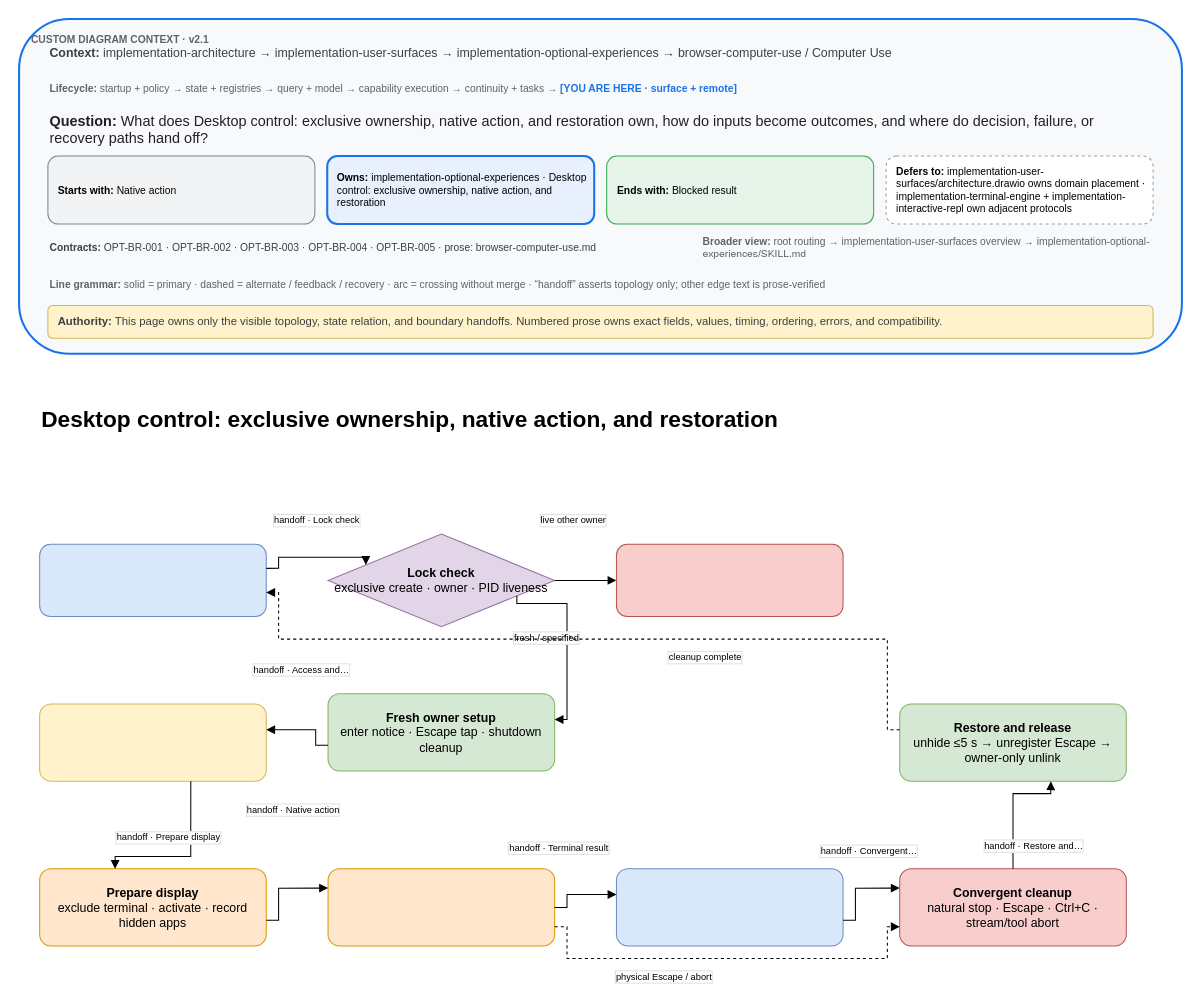
This 1200x1001 diagram has some shape labels left out. The shapes that lost their labels are listed below. From the top down, each one's centre as x and y in pixels, then its label:
At (152,579): "Default-disabled gates subscription · platform · native modules".
At (729,579): "Blocked result preserve live owner's lock and state".
At (152,742): "Access and target validation sanitized app · permission · frozen coordinates".
At (441,907): "Native action 30 s pump bound · input finally-release · capture".
At (729,907): "Terminal result filtered JPEG or bounded action/error".
